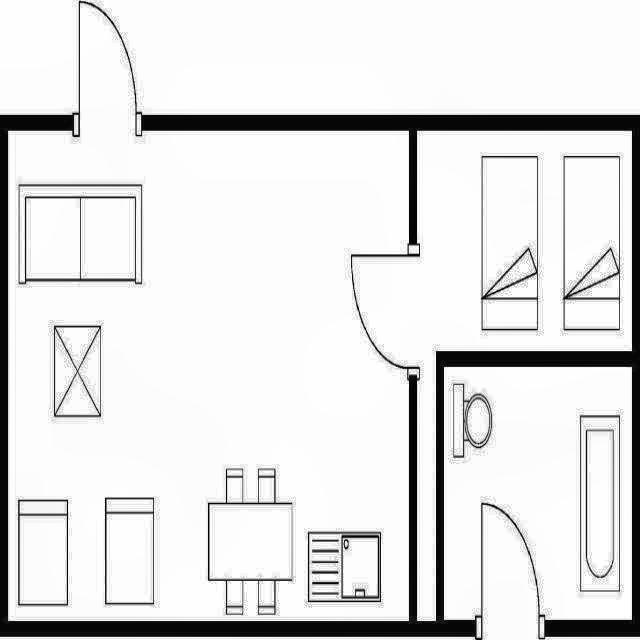room: (8, 131, 409, 621), (417, 131, 632, 621), (444, 367, 632, 620)
